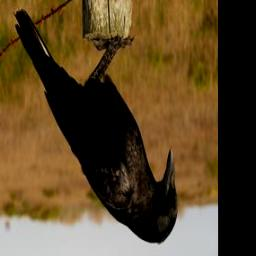Crow: (13, 9, 178, 245)
